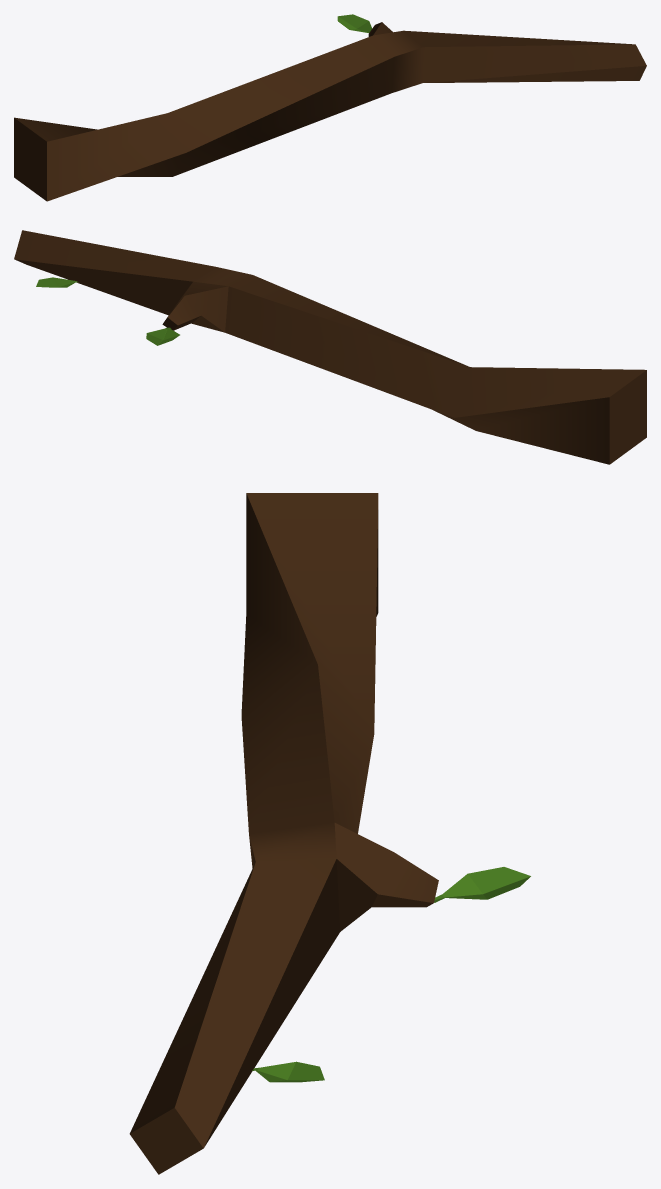
File: branch.fbx
3 views of the same model, one above another, from view 1: azimuth 30°, elevation 25°; view 2: azimuth 150°, elevation 25°; view 3: azimuth 270°, elevation 25° (orthographic). The views are drawn at different scales.
Parts seen in each view (by area): view 1: branch; view 2: branch; view 3: branch.
Part boxes in pixels (x1,y1,x2,y2): branch: (14, 14, 646, 201); branch: (14, 230, 646, 464); branch: (129, 493, 530, 1174).
Bounding box in the file's own units: 5.23 × 0.7321 × 1.59.
